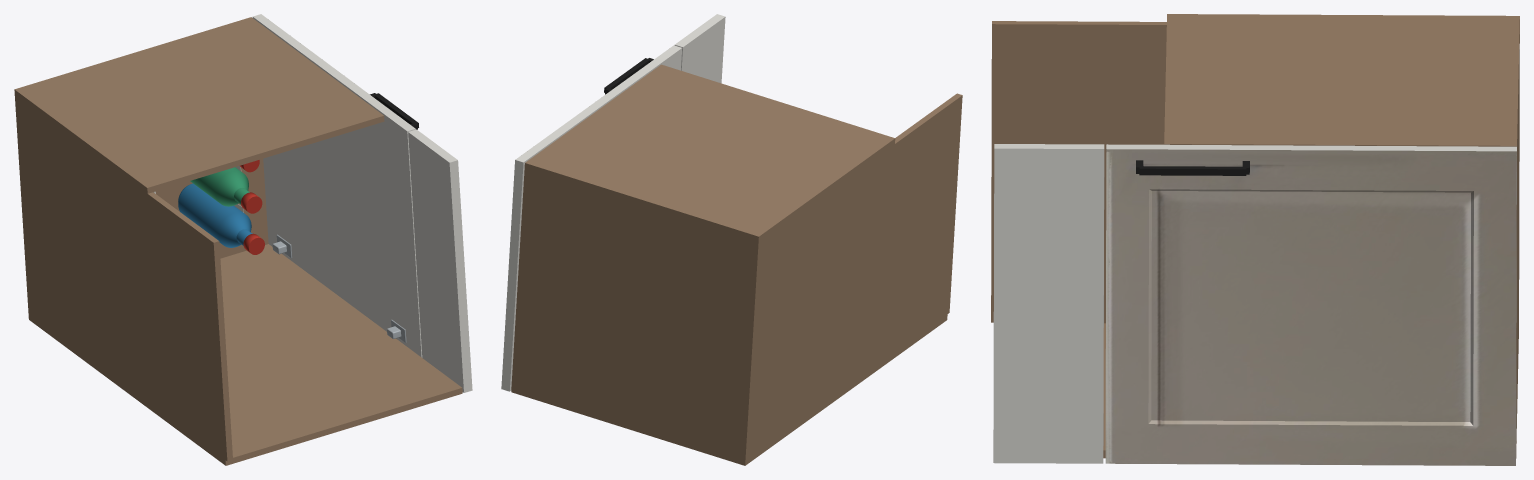
3 views of the same model, side by side, from view 1: azimuth 30°, elevation 25°; view 2: azimuth 150°, elevation 25°; view 3: azimuth 270°, elevation 25° (orthographic). The views are drawn at different scales.
Visible parts, largest first — view 1: cabinet_carcass/0, front_front/1, cabinet_carcass/1, cabinet_carcass/4, cabinet_carcass/7, cabinet_carcass/6, front_front/9; view 2: cabinet_carcass/0, front_front/1, cabinet_carcass/1; view 3: front_front/2, cabinet_carcass/0, cabinet_carcass/1, front_front/1, front_front/3.
Boxes of the visible parts, bbox=[...] form: cabinet_carcass/0: bbox=[14, 17, 462, 465]; front_front/1: bbox=[252, 14, 422, 357]; cabinet_carcass/1: bbox=[408, 129, 472, 392]; cabinet_carcass/4: bbox=[178, 183, 252, 247]; cabinet_carcass/7: bbox=[190, 167, 249, 206]; cabinet_carcass/6: bbox=[240, 160, 264, 254]; front_front/9: bbox=[272, 234, 406, 342]; cabinet_carcass/0: bbox=[511, 64, 962, 465]; front_front/1: bbox=[501, 45, 682, 391]; cabinet_carcass/1: bbox=[674, 14, 725, 83]; front_front/2: bbox=[1105, 149, 1516, 465]; cabinet_carcass/0: bbox=[991, 14, 1519, 458]; cabinet_carcass/1: bbox=[993, 144, 1104, 463]; front_front/1: bbox=[1106, 144, 1516, 440]; front_front/3: bbox=[1136, 160, 1249, 175].
Bounding box in the file's own units: 0.5556 × 0.507 × 0.741.
Materials: 10 (1 with a texture image).
